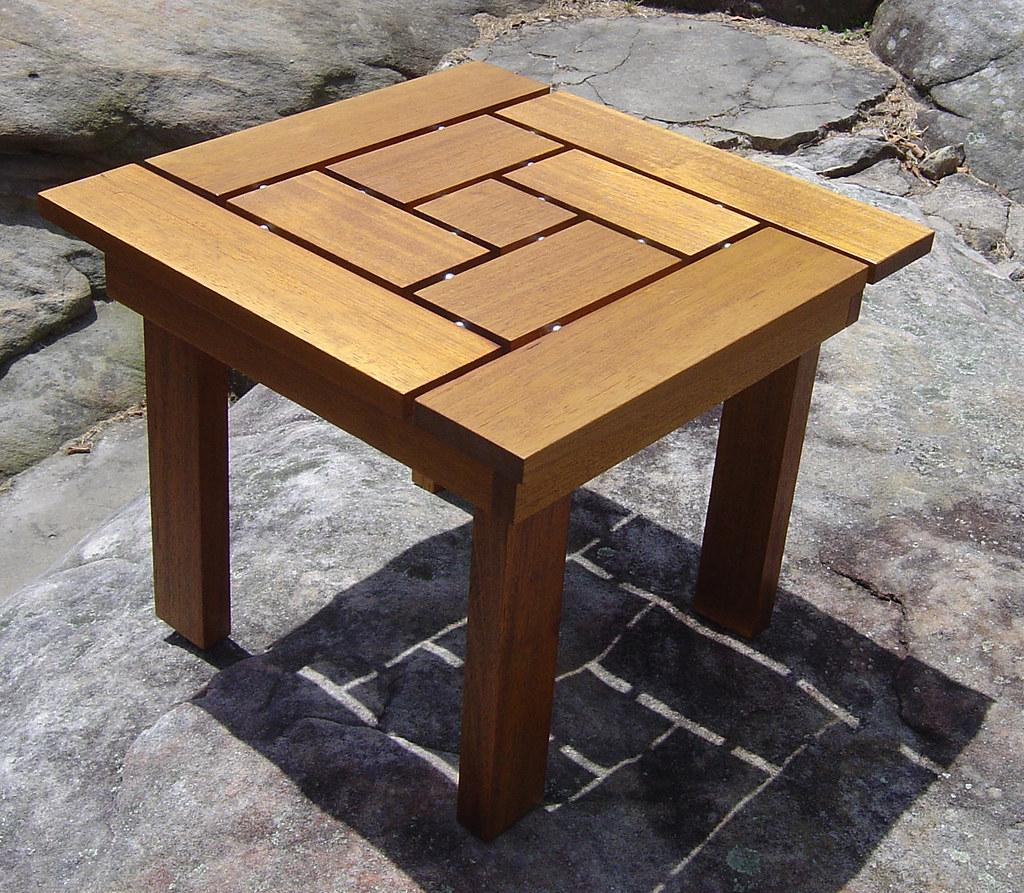table: (31, 52, 942, 854)
